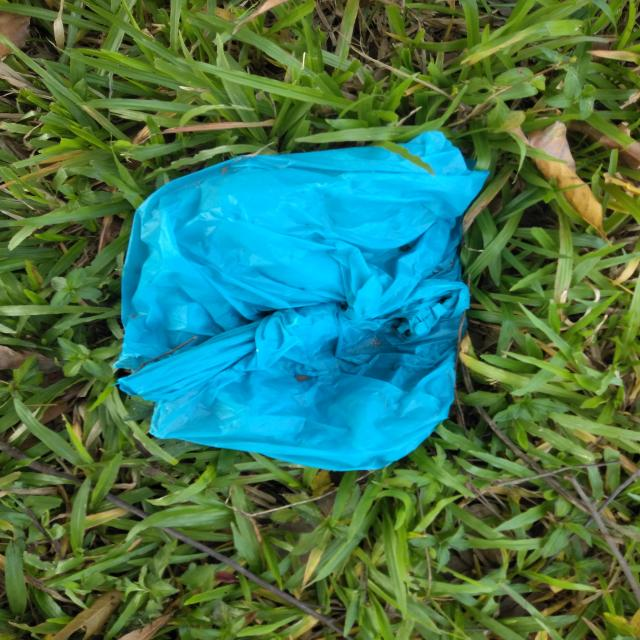litter: (114, 130, 489, 471)
